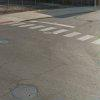Crosswalk: (7, 12, 99, 48)
